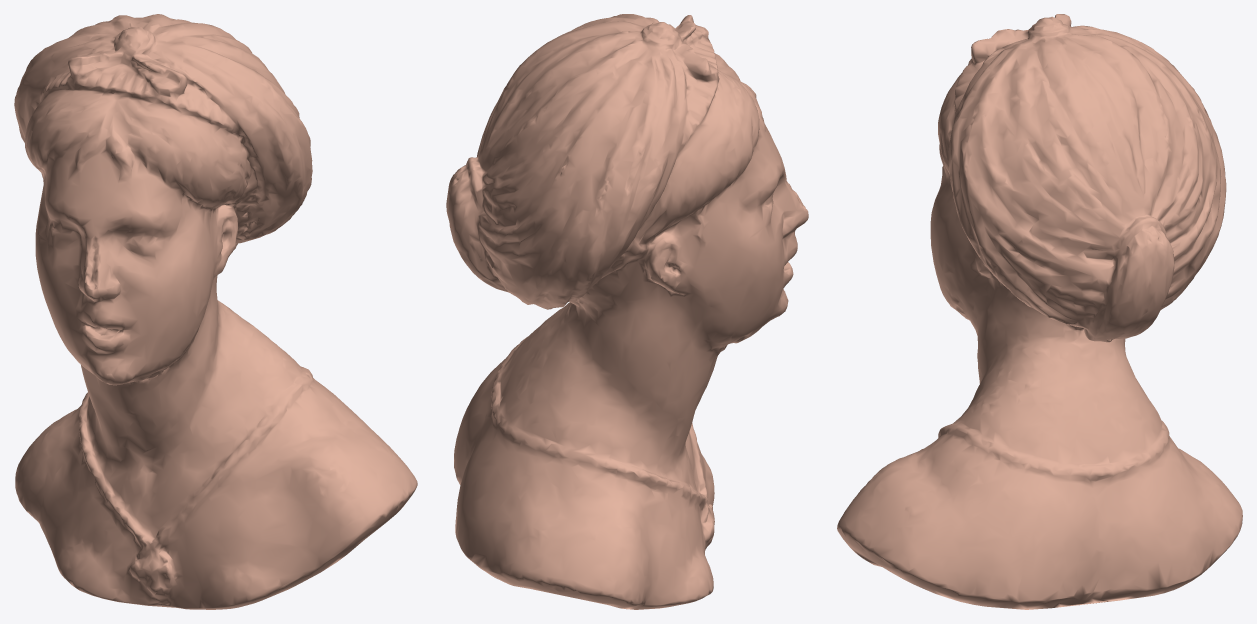
The model's file is wc-bust-singing-woman.glb.
3 renders of one model, left to right at view 1: azimuth 30°, elevation 25°; view 2: azimuth 150°, elevation 25°; view 3: azimuth 270°, elevation 25°, orthographic.
Visible parts, largest first — view 1: wc-bust-singing-woman; view 2: wc-bust-singing-woman; view 3: wc-bust-singing-woman.
Boxes of the visible parts, left/top/right/bottom form: wc-bust-singing-woman: left=14, top=14, right=417, bottom=609; wc-bust-singing-woman: left=446, top=14, right=808, bottom=609; wc-bust-singing-woman: left=837, top=14, right=1242, bottom=609.
Size of the model in its own units: 0.0895 by 0.1499 by 0.099.
